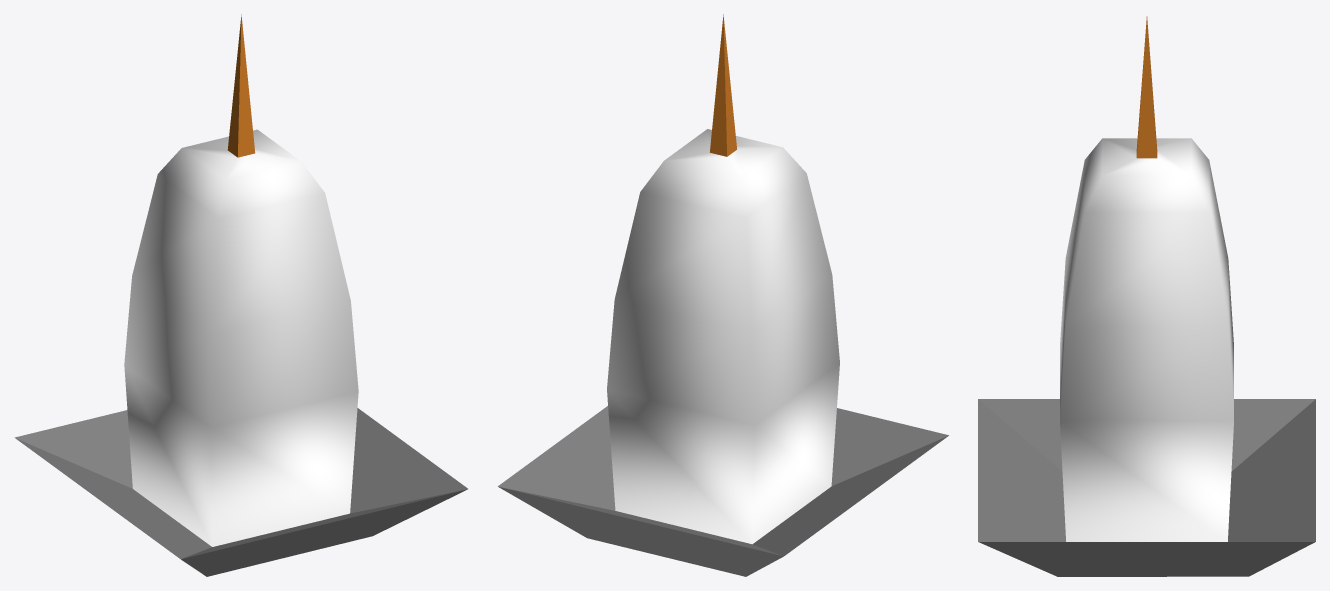
Rendered from library-candle.fbx.
3 views of the same model, side by side, from view 1: azimuth 30°, elevation 25°; view 2: azimuth 150°, elevation 25°; view 3: azimuth 270°, elevation 25° (orthographic). The views are drawn at different scales.
Parts seen in each view (by area): view 1: candle; view 2: candle; view 3: candle.
Boxes of the visible parts, <box> form: candle: <box>14,14,467,576</box>; candle: <box>498,14,948,576</box>; candle: <box>978,16,1315,576</box>.
Bounding box in the file's own units: 79.57 × 135 × 79.57.
